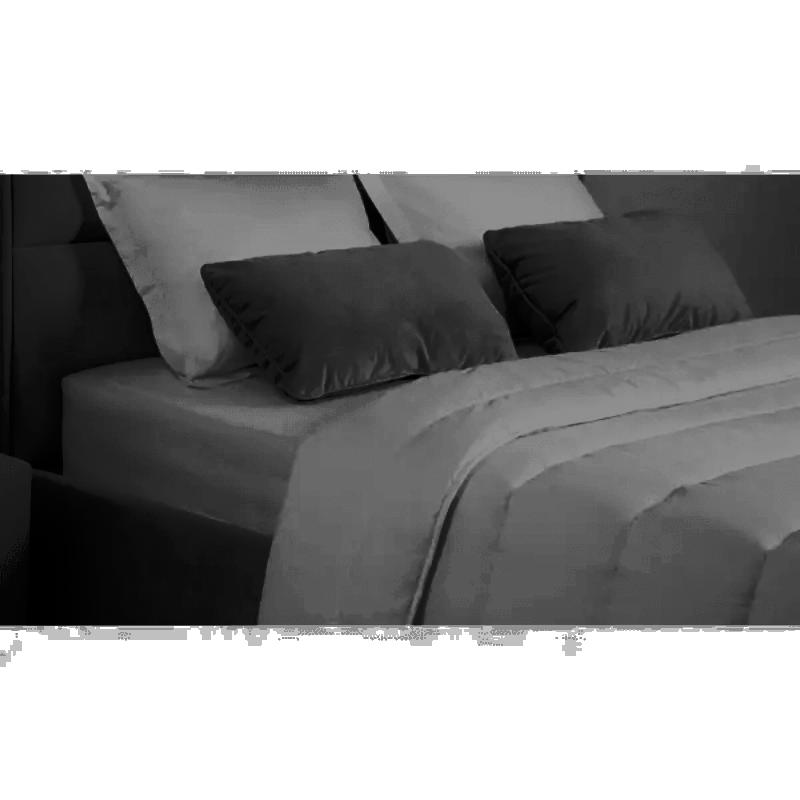pillow: (196, 237, 522, 403), (478, 204, 760, 358)
